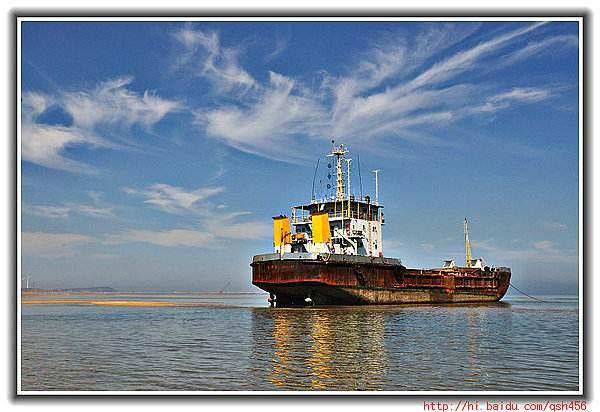Cargoship: (256, 142, 513, 307)
